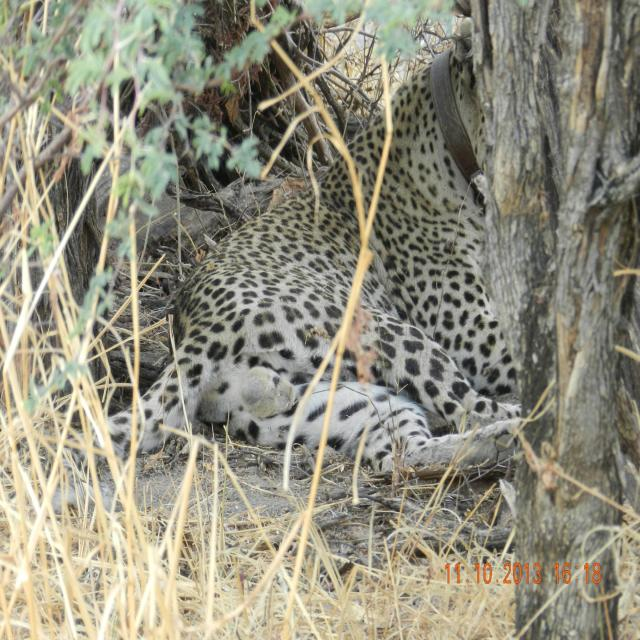Leopard: (70, 18, 575, 477)
